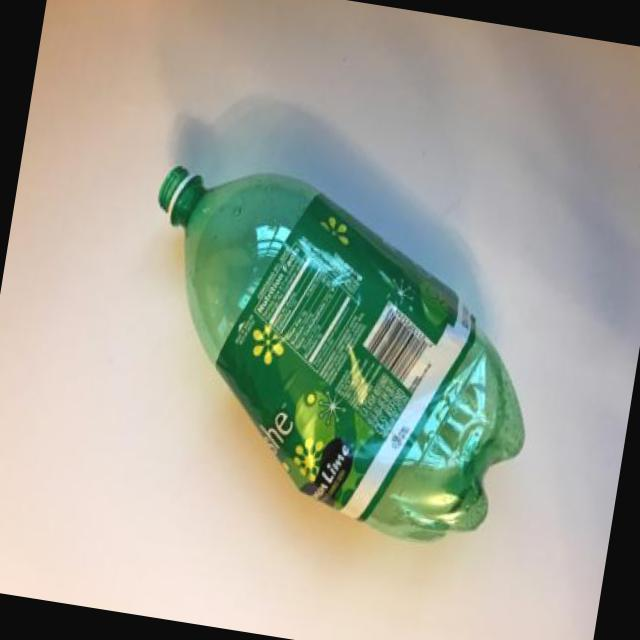Recycle: (109, 156, 562, 561)
